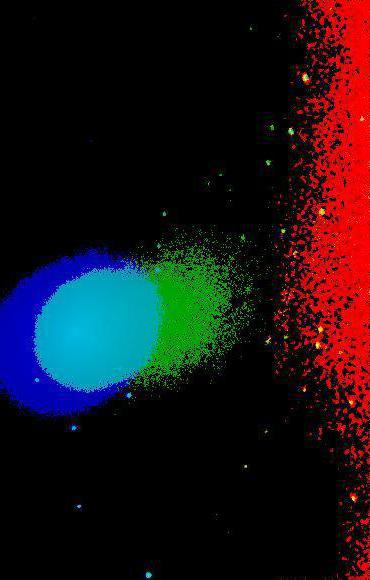star: (192, 168, 222, 198)
